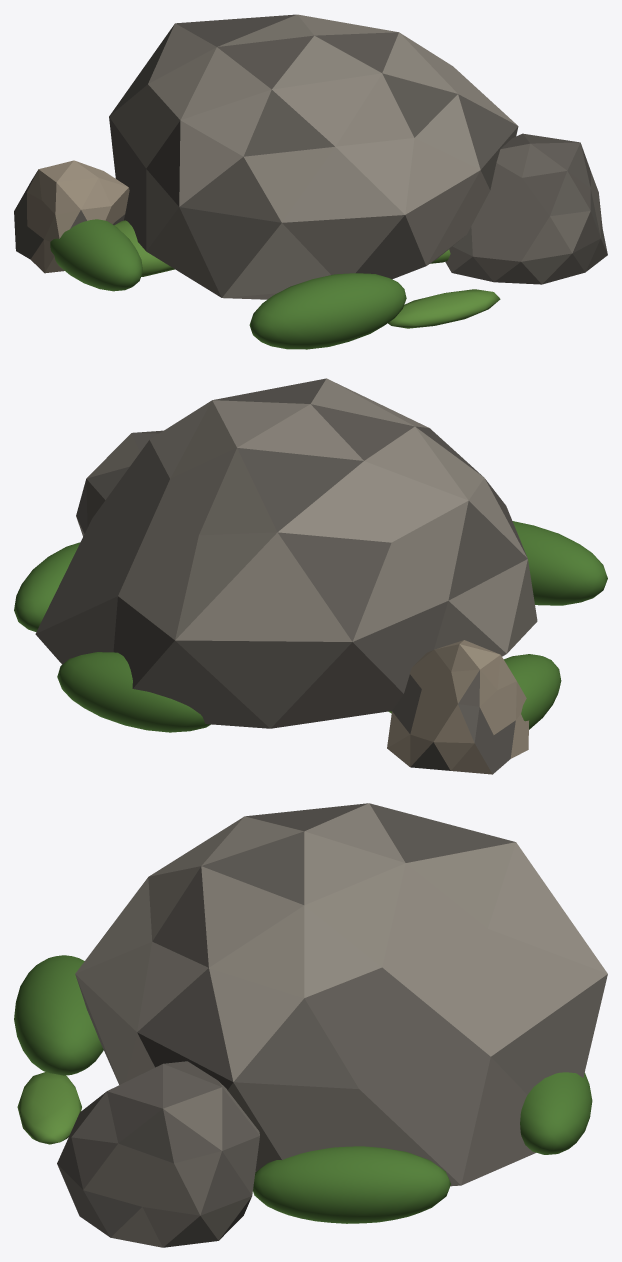
File: boulder.glb
3 renders of one model, top to bottom at view 1: azimuth 30°, elevation 25°; view 2: azimuth 150°, elevation 25°; view 3: azimuth 270°, elevation 25°, orthographic. The views are drawn at different scales.
Visible parts, largest first — view 1: boulder; view 2: boulder; view 3: boulder.
Part boxes in pixels (x1,y1,x2,y2): boulder: [14, 14, 607, 349]; boulder: [14, 378, 607, 774]; boulder: [14, 803, 607, 1247].
Bounding box in the file's own units: 0.9733 × 0.426 × 0.8404.
